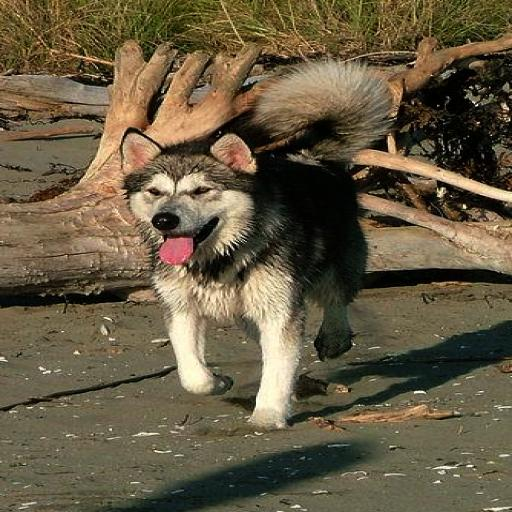dog_face: (107, 120, 266, 269)
